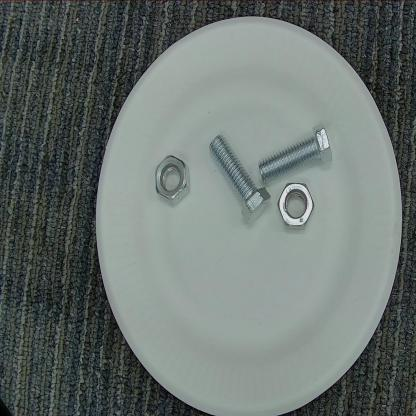FOD: (207, 134, 272, 224), (256, 121, 337, 183), (275, 173, 318, 235), (150, 148, 192, 210)
